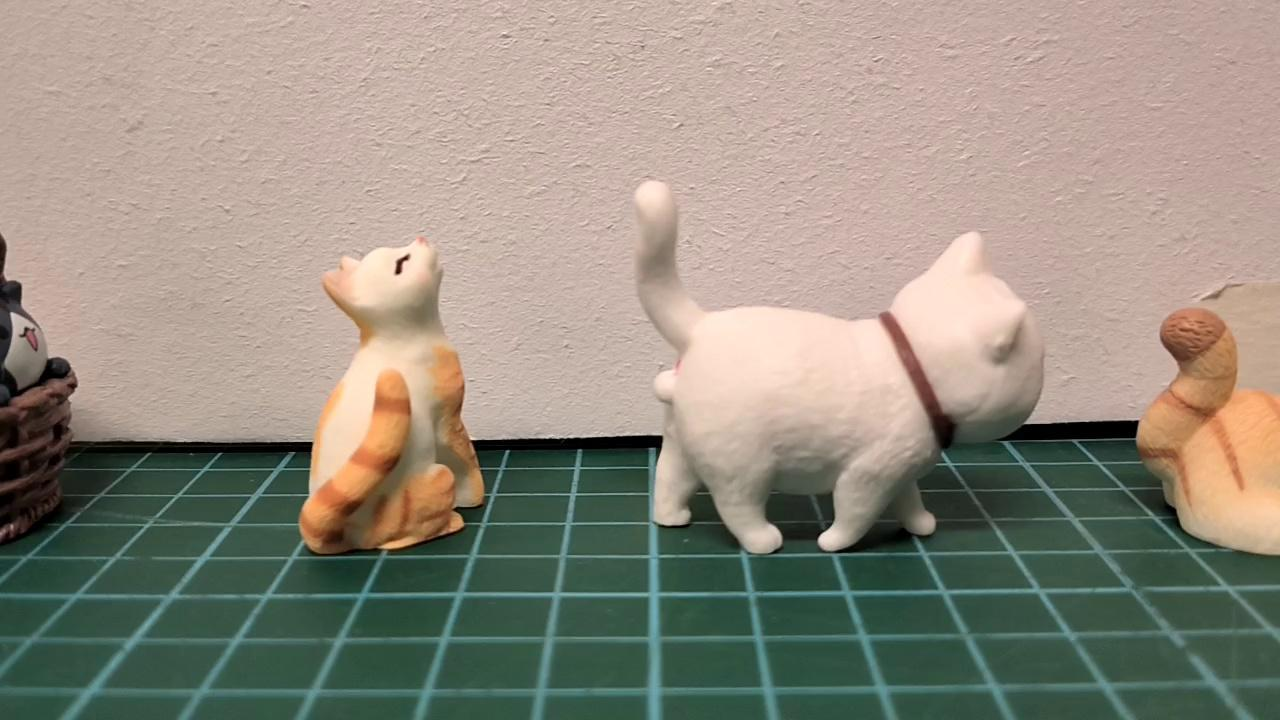pet: (624, 174, 1050, 558), (297, 232, 490, 559)
